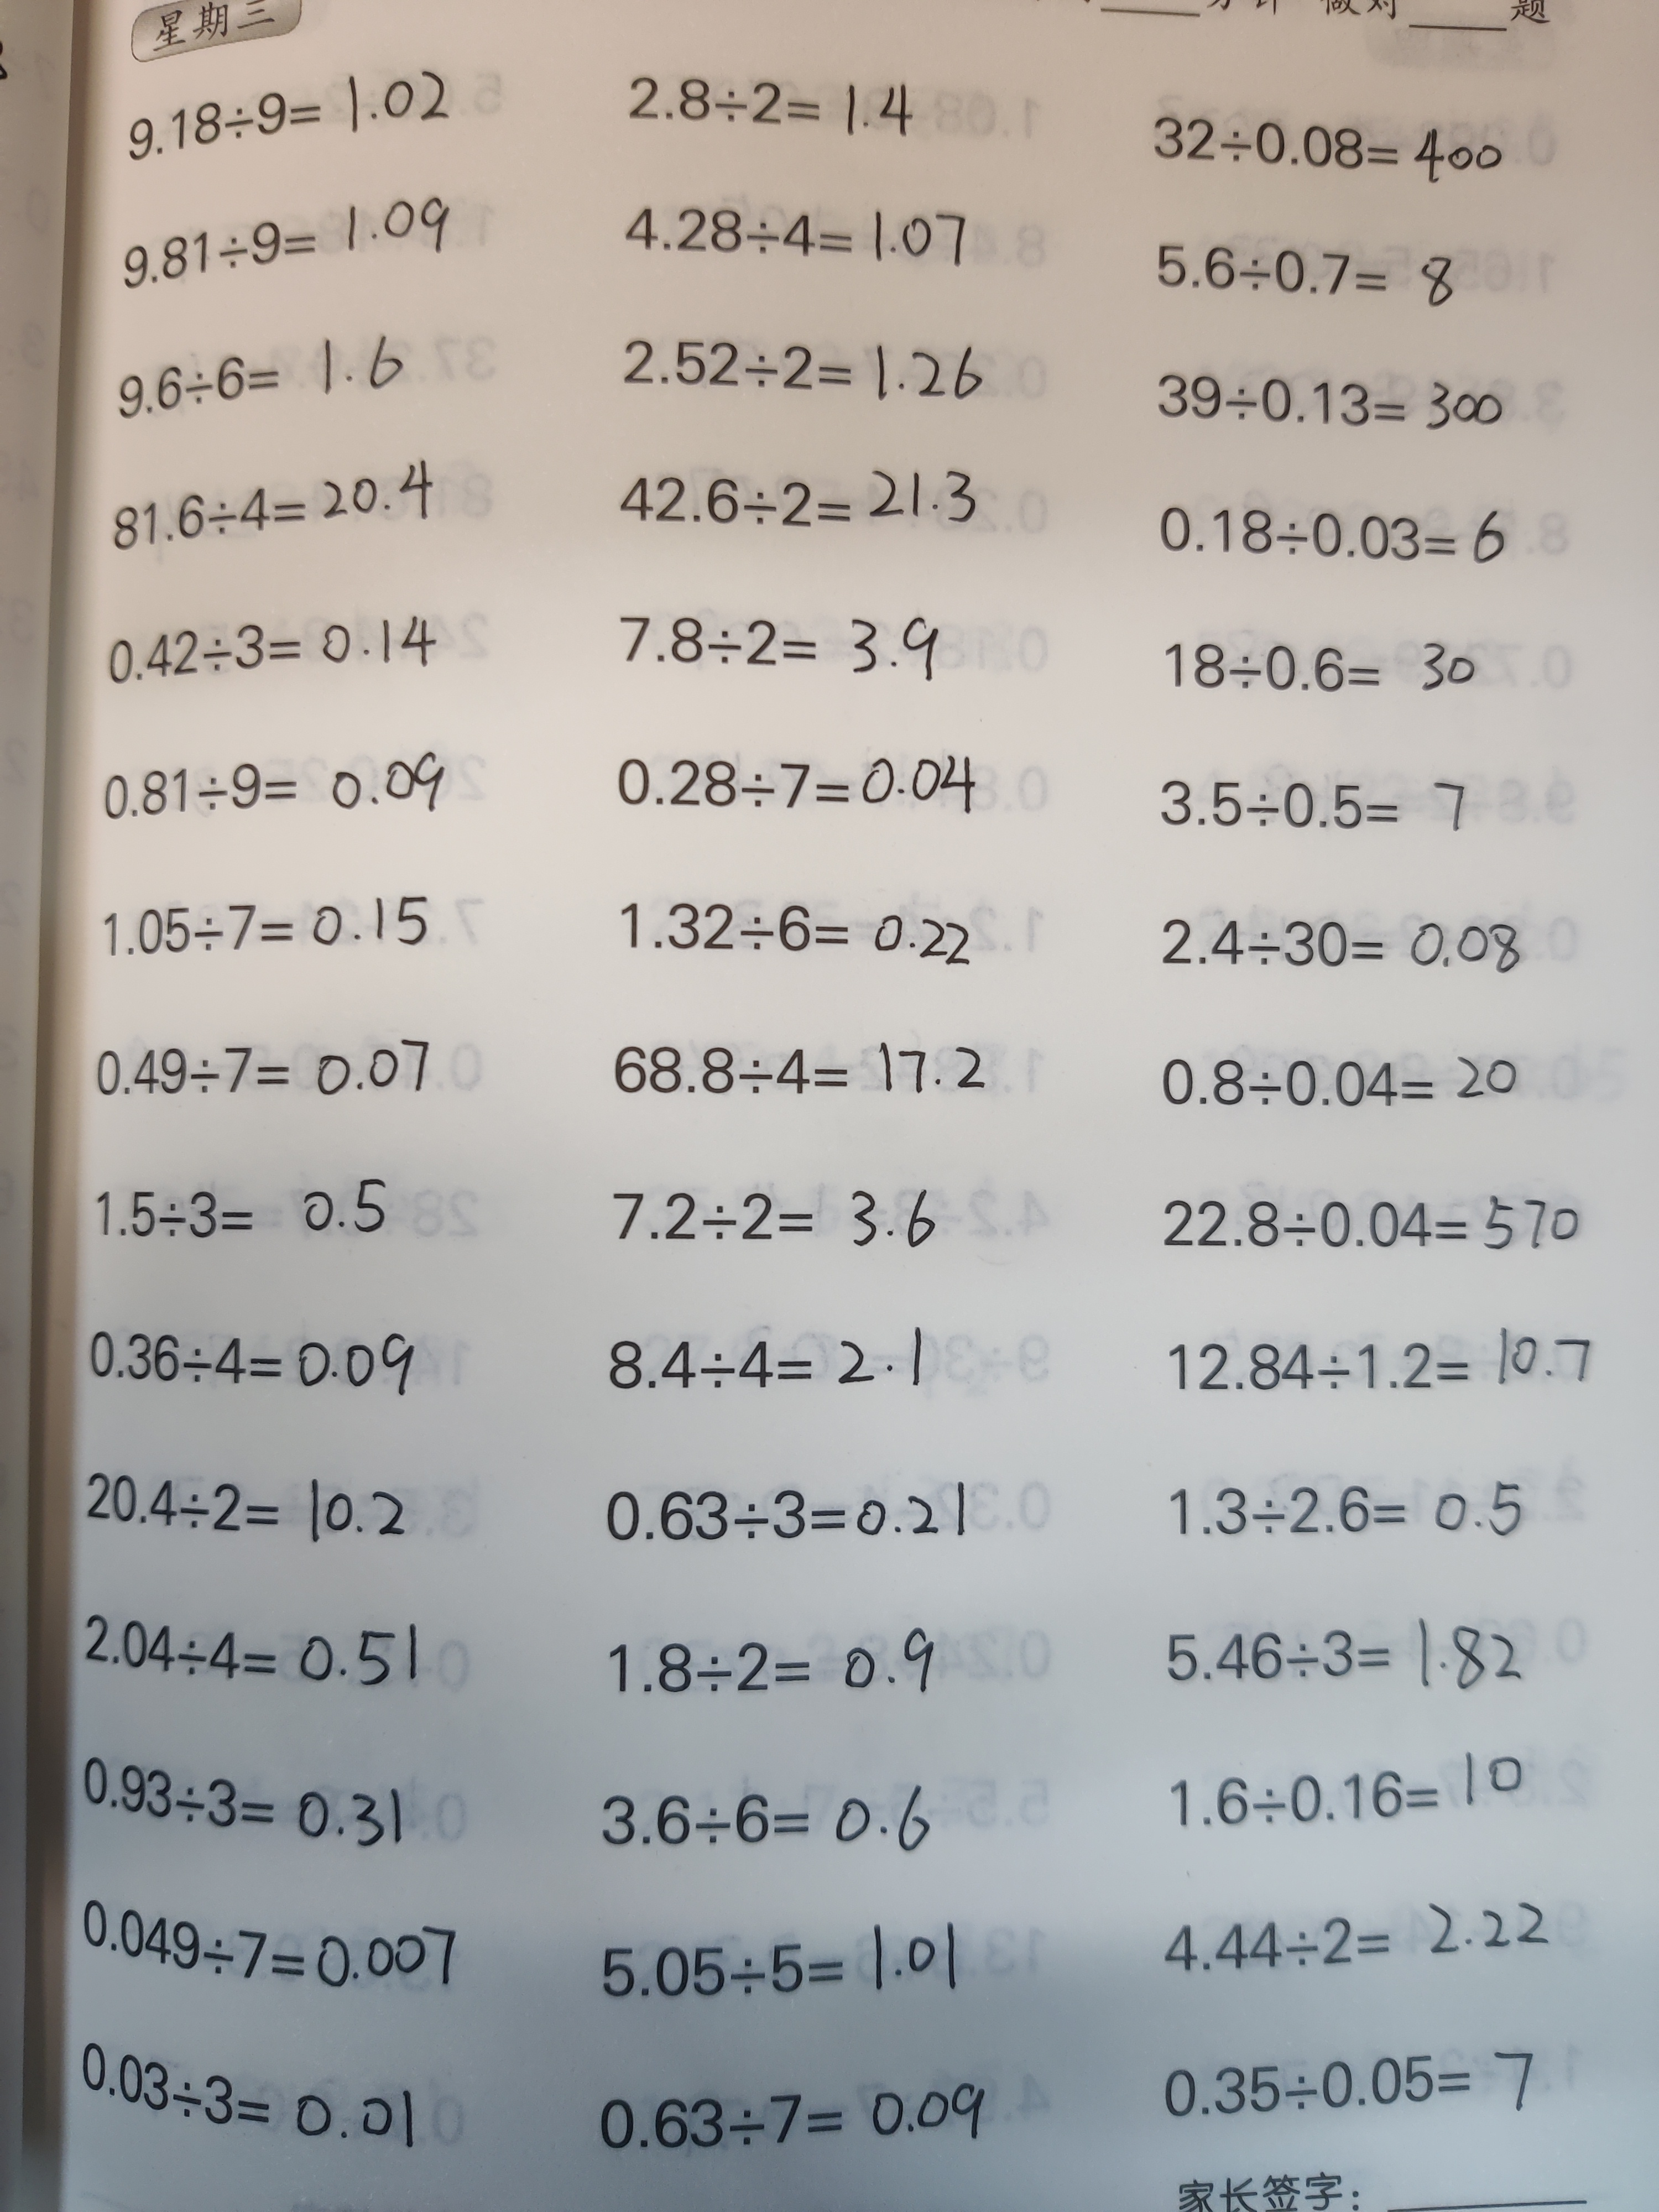equation: (68, 2040, 444, 2172), (63, 1885, 471, 2005), (582, 2062, 1004, 2175), (63, 1738, 416, 1864), (68, 1588, 436, 1705), (592, 1757, 939, 1878), (1152, 1310, 1610, 1399), (586, 1918, 974, 2022), (1155, 1890, 1556, 1991), (78, 1453, 436, 1566), (1150, 1606, 1539, 1709), (592, 1022, 1002, 1118), (1143, 99, 1523, 202), (1138, 2036, 1542, 2132), (598, 1474, 986, 1573), (120, 61, 465, 171), (615, 317, 990, 418), (1148, 1181, 1586, 1266), (118, 192, 464, 300), (603, 887, 978, 986), (619, 448, 986, 549), (75, 1019, 439, 1120), (622, 188, 974, 293), (1161, 1460, 1537, 1557), (1134, 1038, 1528, 1130), (605, 1613, 950, 1717), (1148, 1738, 1530, 1832), (105, 451, 441, 557), (1138, 359, 1511, 455), (606, 745, 983, 840), (1145, 495, 1521, 587), (1134, 902, 1539, 986), (73, 1317, 439, 1409), (75, 1169, 420, 1266), (98, 742, 455, 836), (612, 596, 953, 693), (94, 606, 444, 700), (1138, 754, 1478, 848), (606, 1169, 941, 1263), (1141, 230, 1478, 322), (592, 1327, 948, 1409), (612, 64, 920, 158), (106, 340, 423, 423), (92, 890, 444, 963), (1155, 625, 1485, 702)
